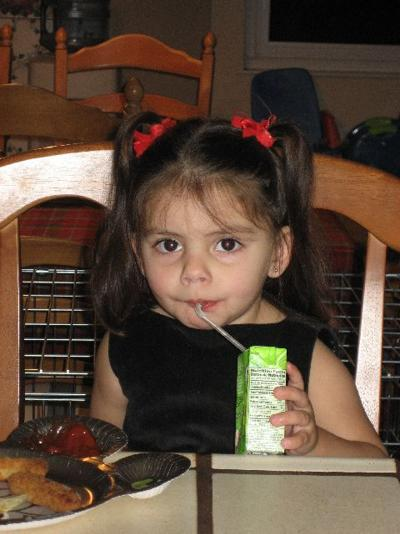person: (88, 109, 392, 460)
